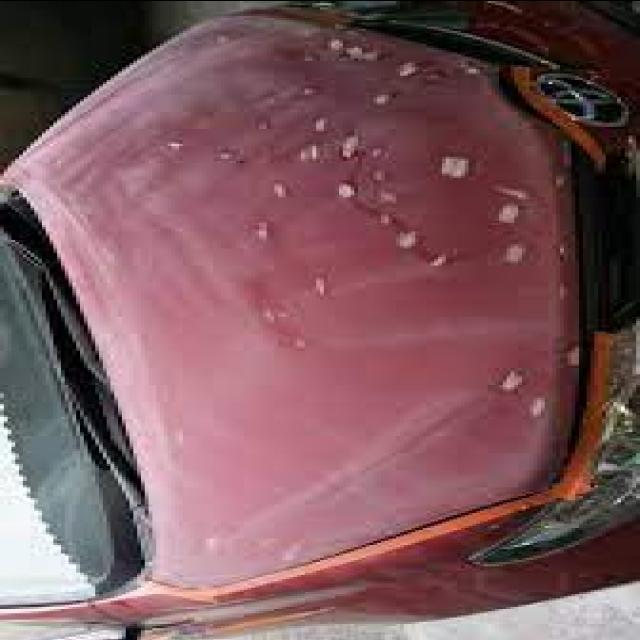paint-chip: (154, 77, 362, 263), (366, 124, 559, 278), (305, 20, 506, 113), (480, 328, 594, 426), (242, 267, 350, 358)
